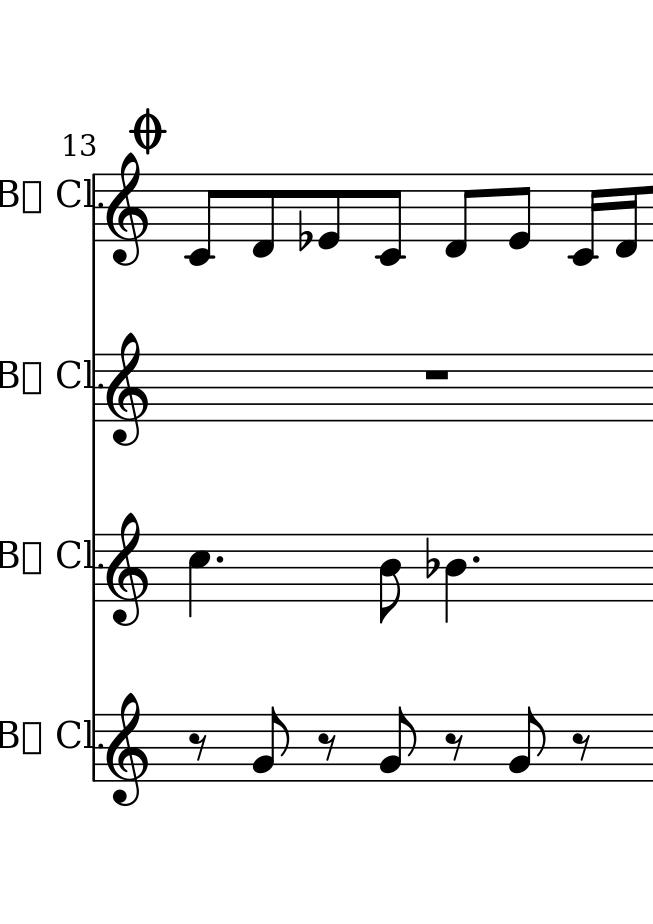1: (63, 132, 75, 159)
16_-1: (612, 171, 639, 262)
16_-2: (568, 171, 602, 270)
3: (79, 131, 96, 159)
4_4: (442, 532, 469, 623)
4_5: (186, 531, 212, 623)
8_-1: (444, 171, 477, 260), (251, 172, 277, 261)
8_-2: (186, 173, 223, 269), (374, 172, 406, 267)
8_0: (317, 171, 343, 252), (505, 171, 531, 251)
8_2: (508, 702, 548, 783), (250, 703, 290, 782), (381, 704, 417, 785)
8_4: (377, 531, 405, 624)
Cl: (53, 358, 93, 393), (56, 536, 92, 573), (56, 176, 91, 212), (58, 718, 90, 751)
Coda: (128, 105, 165, 154)
Flat: (423, 534, 439, 578), (297, 209, 312, 252)
Gclef: (104, 507, 152, 629), (104, 691, 151, 813), (103, 151, 149, 270), (105, 330, 149, 451)
Rests1: (421, 366, 454, 384)
Rests8: (570, 727, 593, 761), (444, 729, 467, 762), (315, 732, 338, 762), (188, 731, 208, 760)
Single_barline: (88, 533, 105, 603), (88, 173, 103, 243), (89, 353, 104, 423), (89, 714, 103, 782)
dot: (468, 552, 483, 567), (213, 552, 226, 567)
